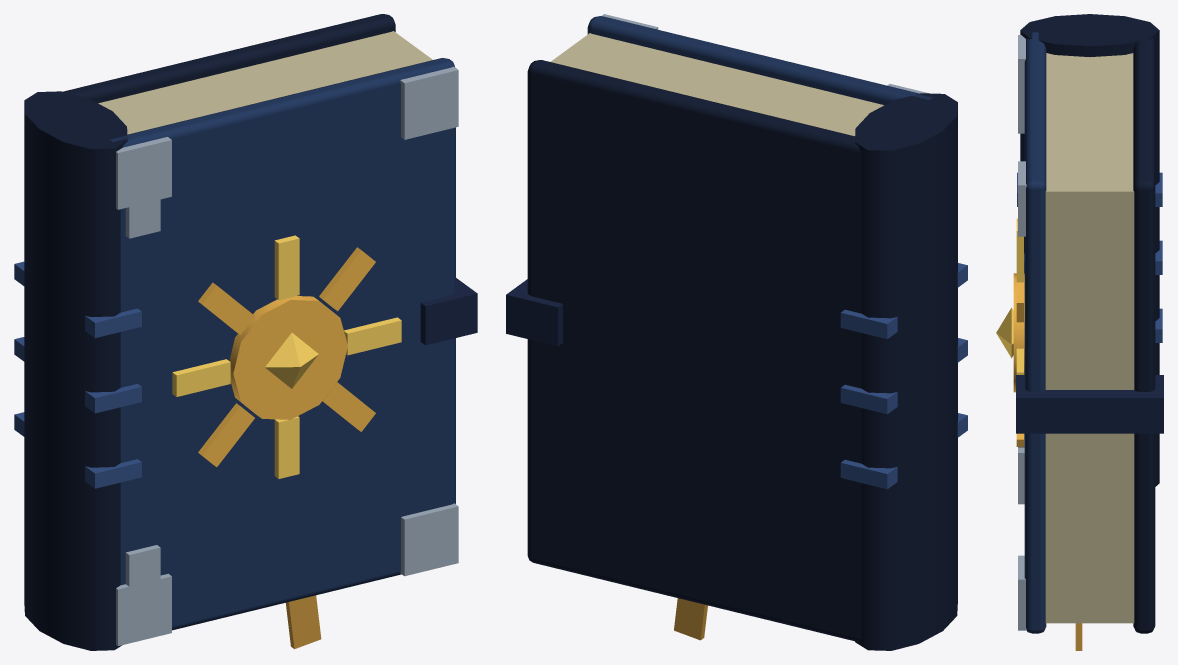
The model's file is tome_sunpetal.glb.
The picture shows the model from 3 angles, left to right: view 1: azimuth 30°, elevation 25°; view 2: azimuth 150°, elevation 25°; view 3: azimuth 270°, elevation 25°; orthographic projection. The views are drawn at different scales.
Parts seen in each view (by area): view 1: InscriptionTomeSunpetal_TomeOpaque, InscriptionTomeSunpetal_TomeMetal; view 2: InscriptionTomeSunpetal_TomeOpaque; view 3: InscriptionTomeSunpetal_TomeOpaque, InscriptionTomeSunpetal_TomeMetal.
Boxes of the visible parts, x1=… form: InscriptionTomeSunpetal_TomeOpaque: x1=14, y1=14, x2=477, y2=650; InscriptionTomeSunpetal_TomeMetal: x1=116, y1=66, x2=458, y2=645; InscriptionTomeSunpetal_TomeOpaque: x1=506, y1=16, x2=967, y2=650; InscriptionTomeSunpetal_TomeOpaque: x1=1016, y1=14, x2=1163, y2=650; InscriptionTomeSunpetal_TomeMetal: x1=996, y1=35, x2=1026, y2=630.
Bounding box in the file's own units: 0.3812 × 0.5268 × 0.1543.
